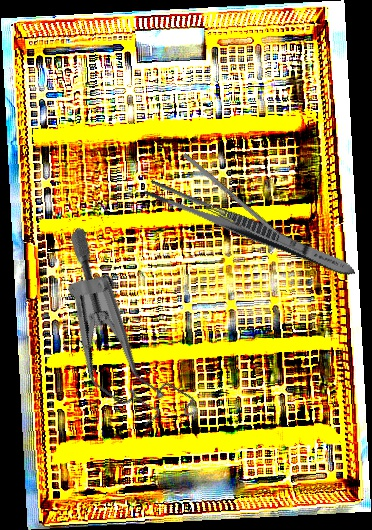Dressing Forceps: (140, 176, 360, 283)
Pusher: (182, 152, 302, 255)
Speculum: (5, 224, 244, 447)
